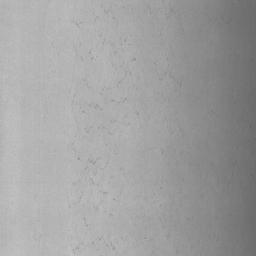Silk spot: (72, 143, 121, 200), (84, 120, 116, 146), (159, 58, 182, 91), (99, 35, 131, 54), (72, 95, 103, 113), (117, 58, 136, 87), (92, 236, 115, 256), (93, 5, 115, 22), (248, 138, 256, 184)
